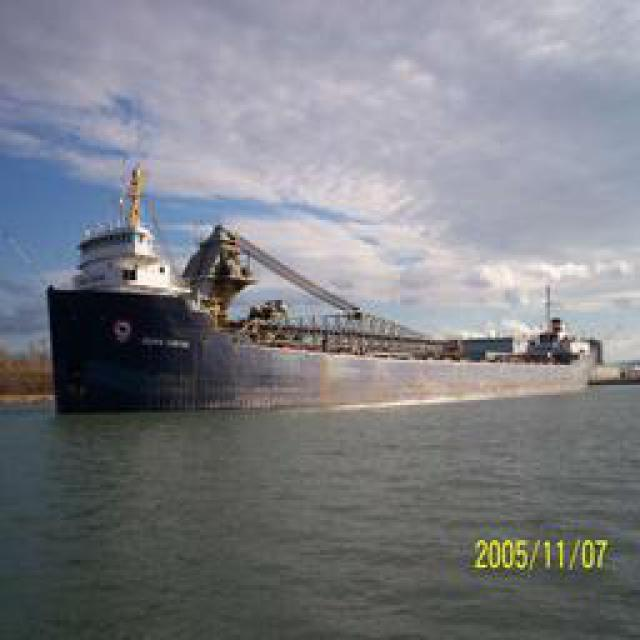Ship: (47, 165, 590, 410)
